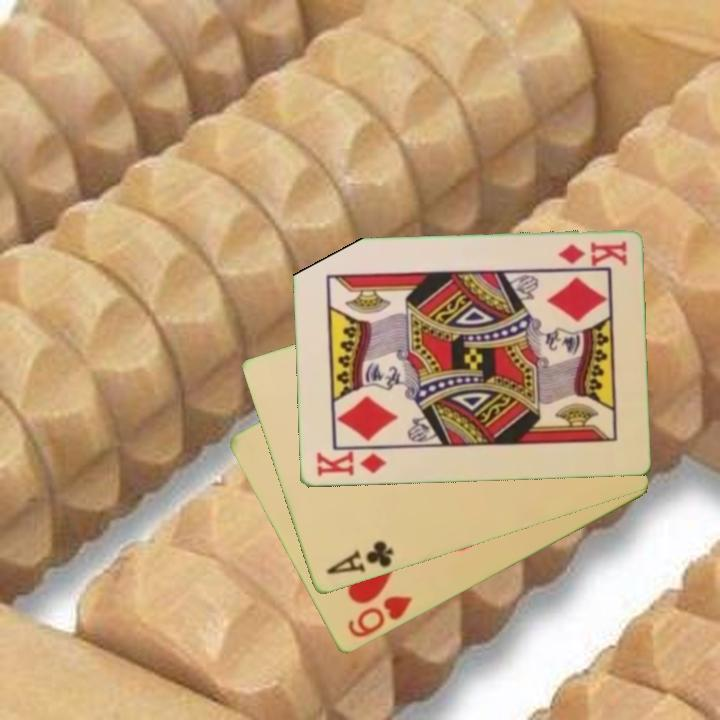6h: (343, 592, 415, 641)
Ac: (322, 537, 396, 578)
Kd: (313, 448, 389, 479), (554, 238, 630, 268)
